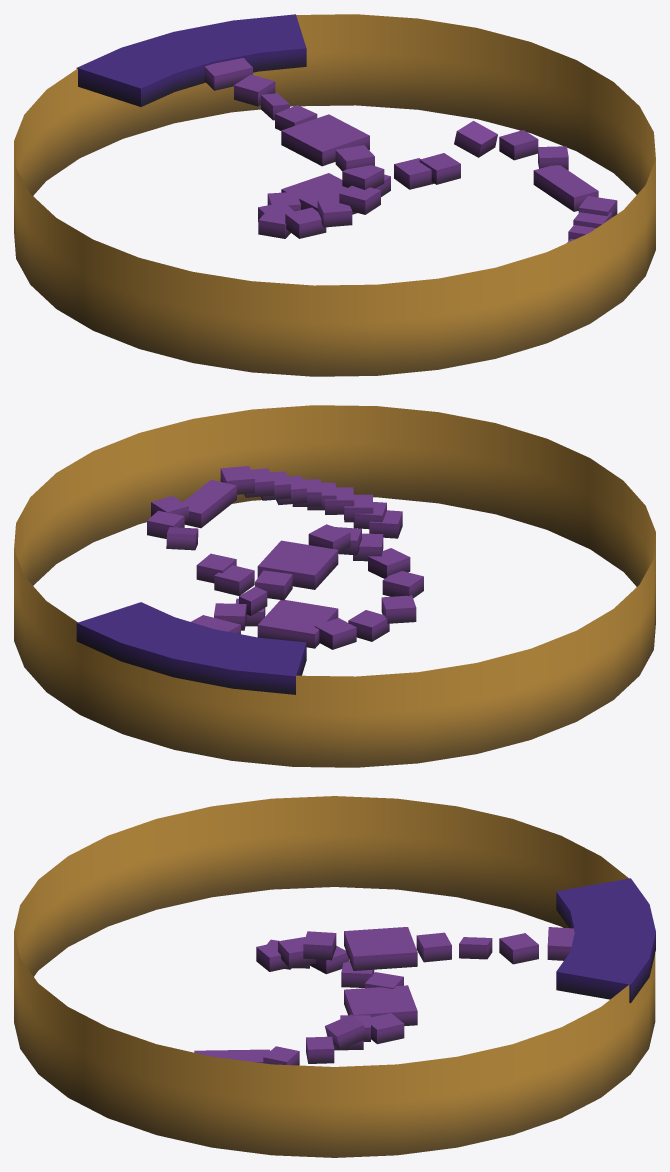
File: Chunk06.glb
3 renders of one model, top to bottom at view 1: azimuth 30°, elevation 25°; view 2: azimuth 150°, elevation 25°; view 3: azimuth 270°, elevation 25°, orthographic.
Visible parts, largest first — view 1: Chunk06; view 2: Chunk06; view 3: Chunk06.
Part boxes in pixels (<box>): Chunk06: <box>14,14,655,376</box>; Chunk06: <box>14,405,655,767</box>; Chunk06: <box>14,796,655,1157</box>.
Size of what is drawn, in the model's own units: 69.14 by 11.88 by 69.22.
1 material, 1 textured.
